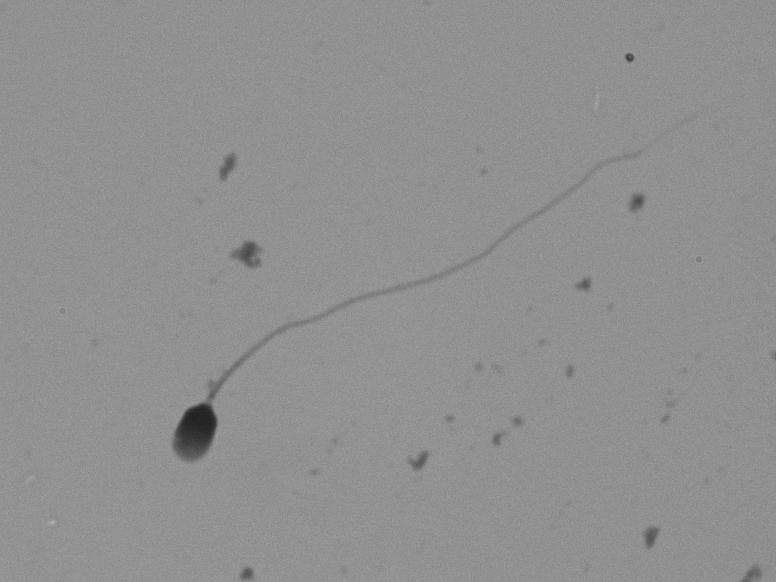Normal: (148, 107, 695, 485)
